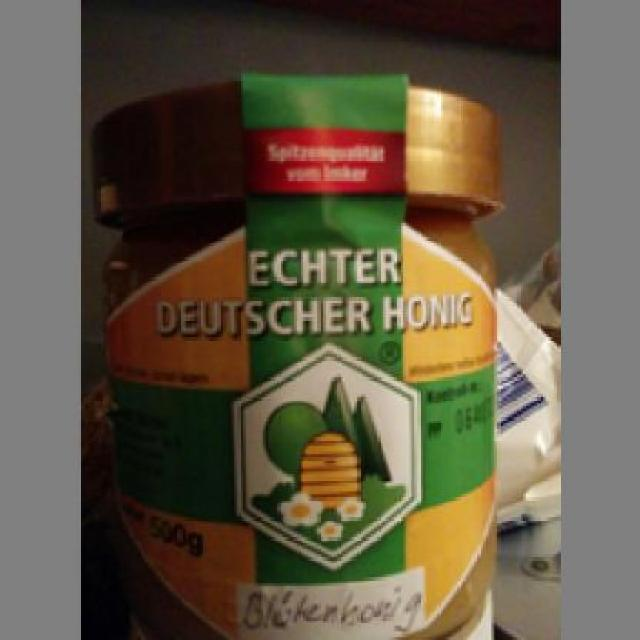Honey: (77, 72, 506, 638)
